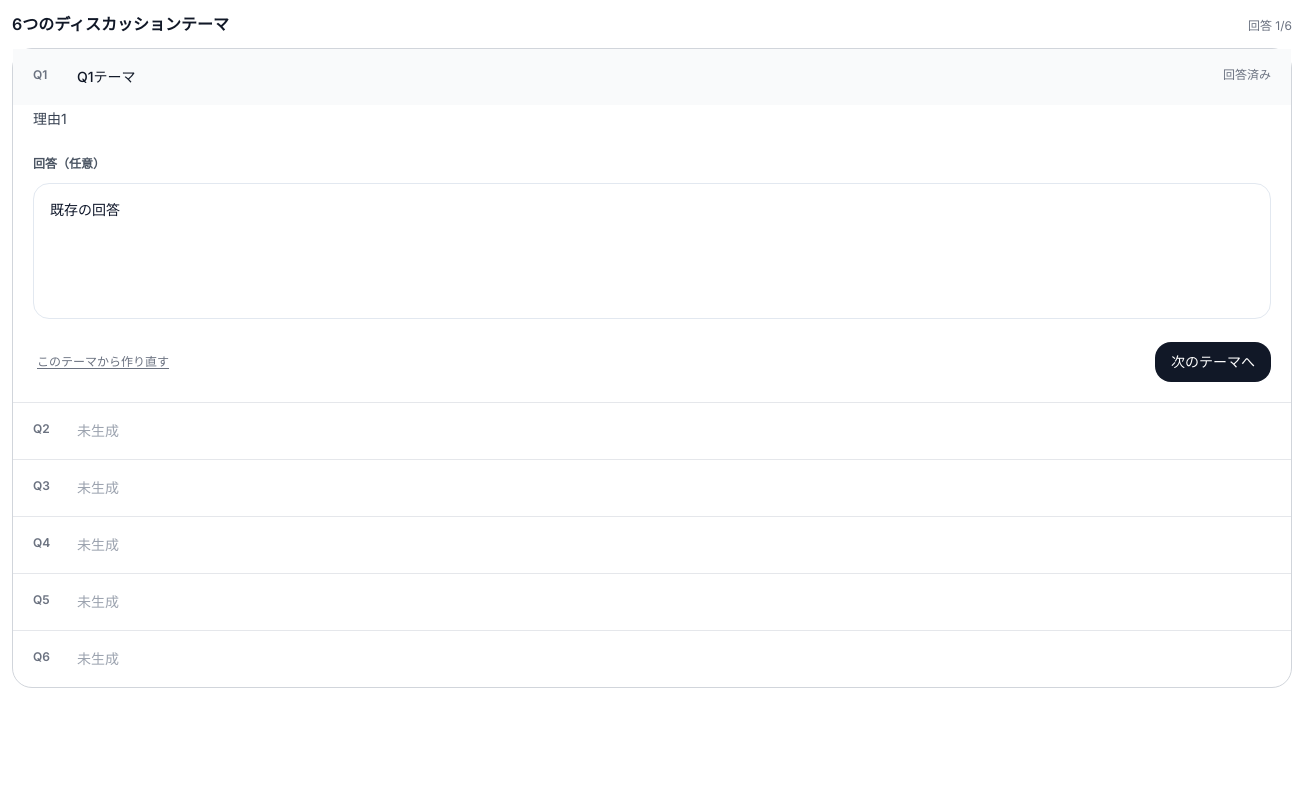
Test case: DepartmentQuestionStepper（6つの問い） › 入力済みのテーマを開いても再生成のAPIは呼ばれず、回答欄に既存の回答が入る
The image size is (1304, 812).
Expected: the text box showing "既存の回答" is shown, [33,183,1271,319]
Click the button "Q2 未生成" at (98, 430), box [13,403,1291,459]
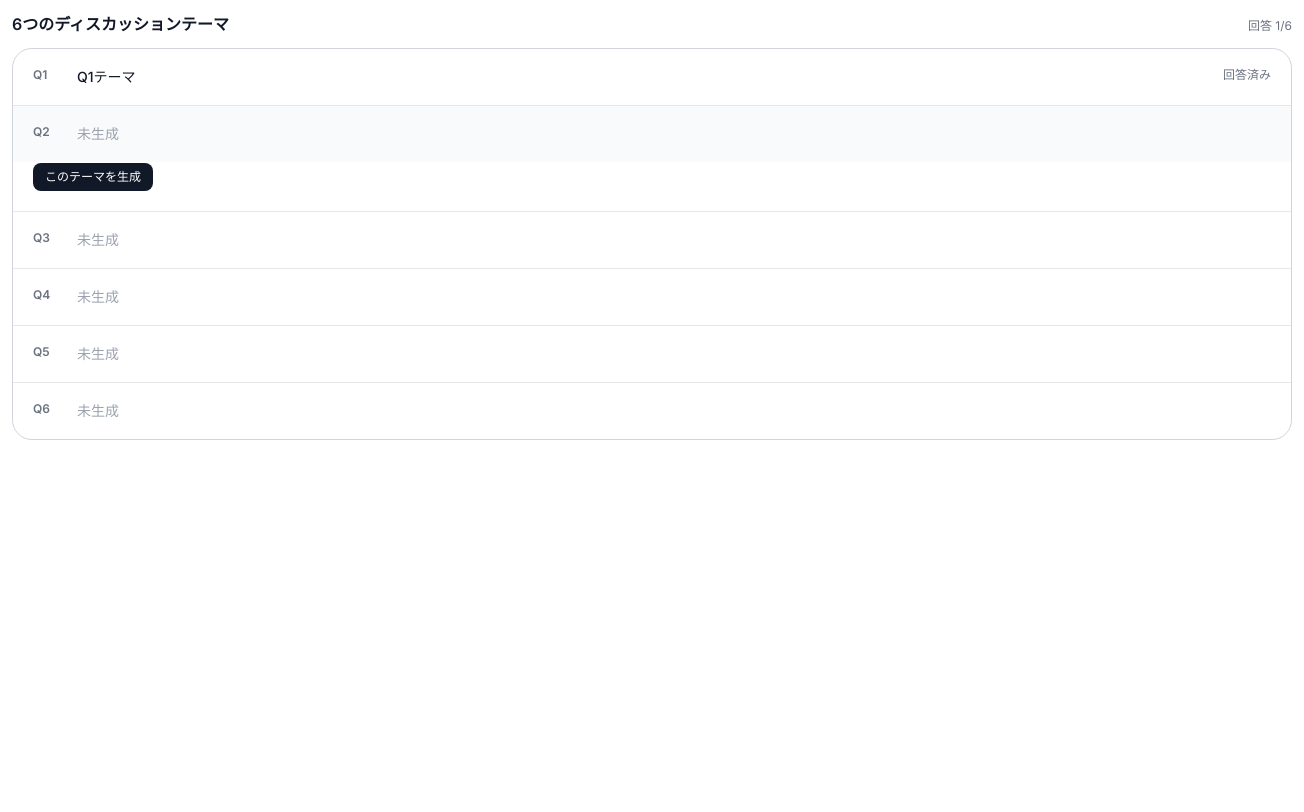
Click the button "Q1 Q1テーマ 回答済み" at (106, 76), box [13,49,1291,105]
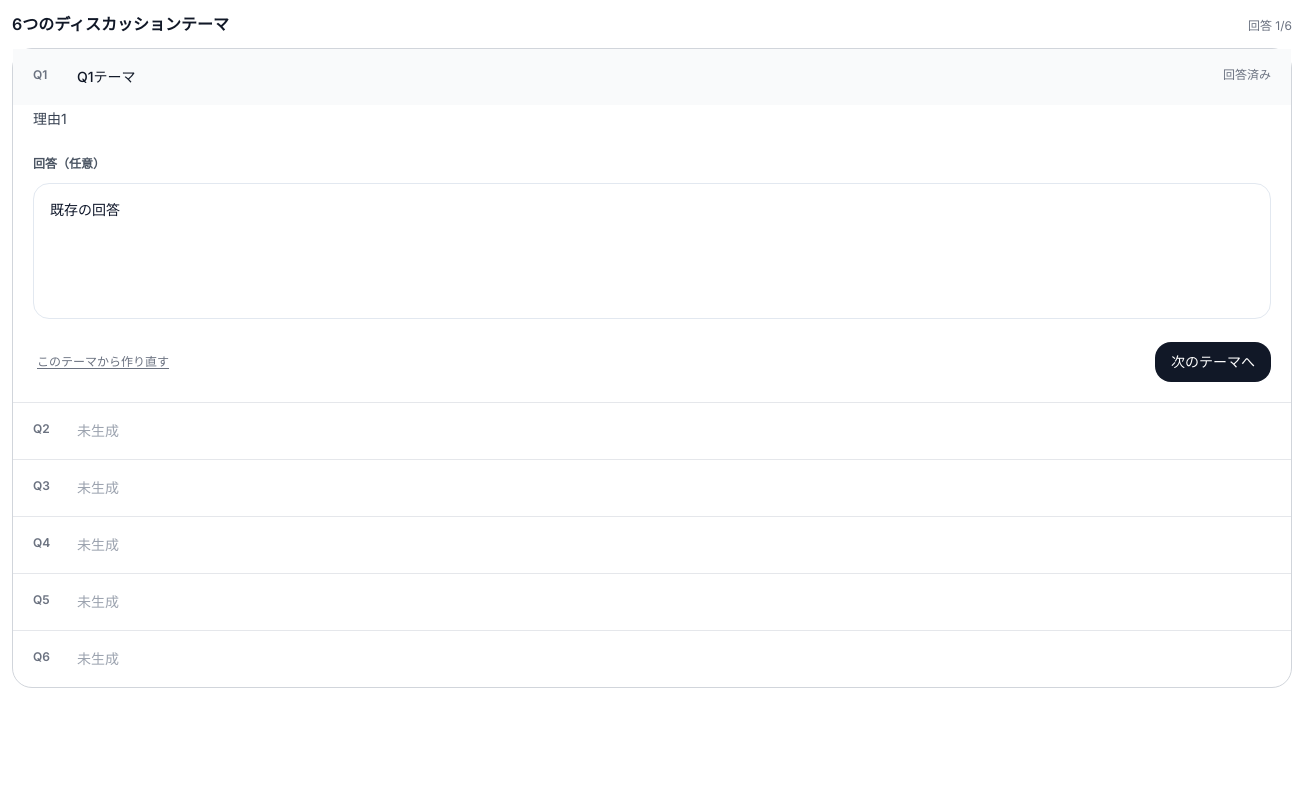
Expected: the text box showing "既存の回答" is shown, [33,183,1271,319]
